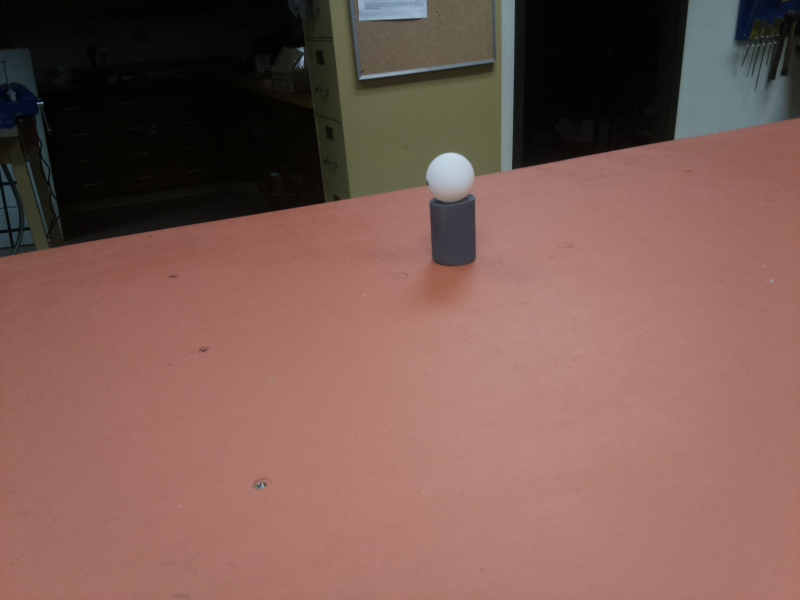obstacle: (407, 150, 485, 266)
